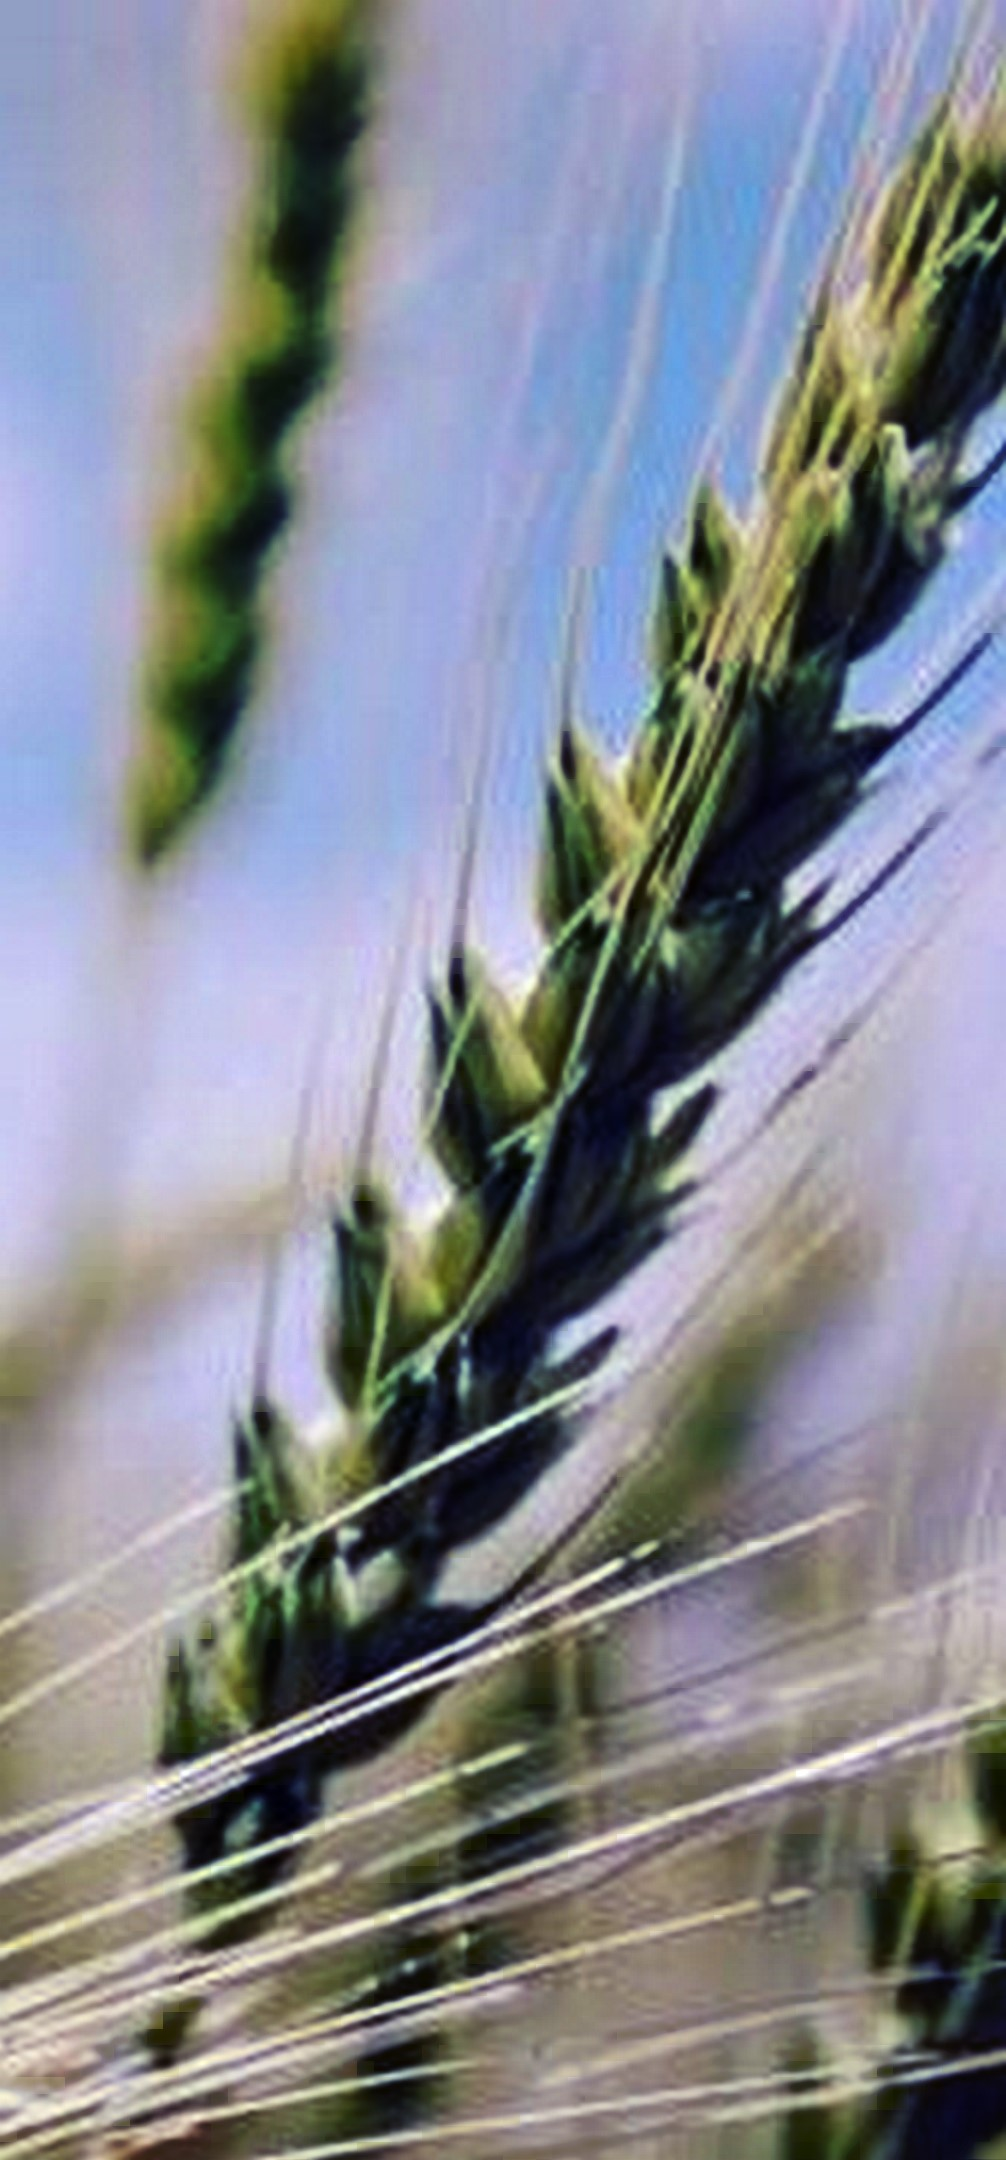Healthy Wheat: (136, 187, 1006, 1896)
